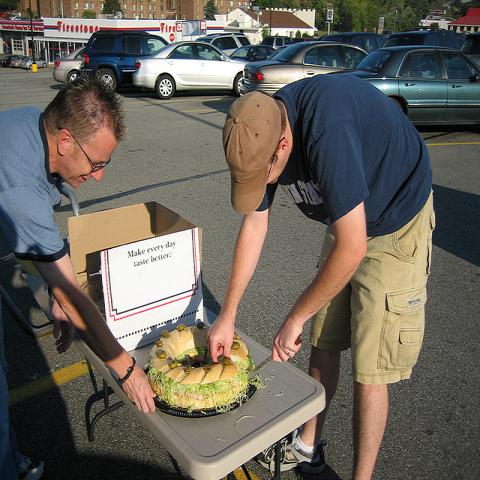car: (328, 47, 480, 126), (240, 40, 370, 96), (135, 38, 245, 99), (80, 29, 168, 92), (380, 28, 463, 48), (196, 32, 253, 58), (320, 32, 386, 54), (53, 46, 85, 84), (231, 45, 273, 62), (258, 36, 294, 55), (20, 57, 49, 70), (11, 56, 25, 67)
